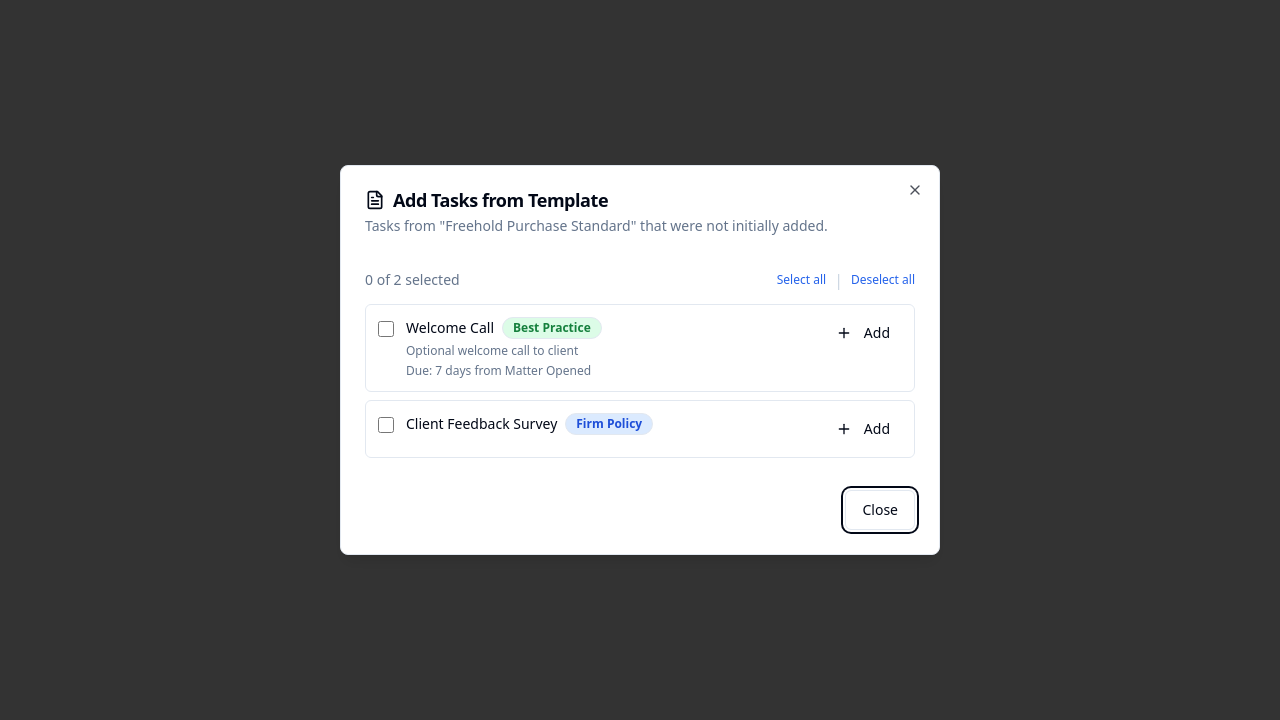
Test: SkippedTasksDialog › Selection behavior › deselect all clears selection
The width and height of the screenshot is (1280, 720).
# Select all first
Click the button "Select all": coordinates (802, 280) [777,268,826,292]
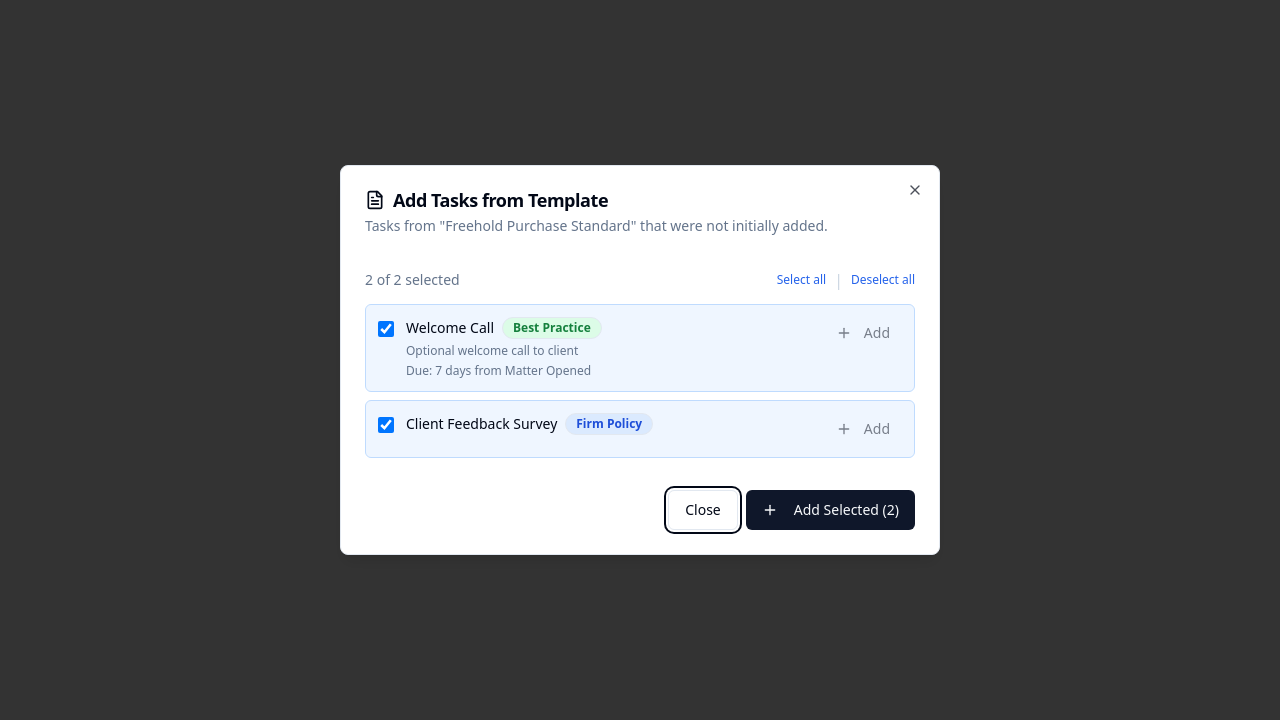
Now the text "2 of 2 selected" is shown, box [365,270,460,290]
# Then deselect all
Click the button "Deselect all": coordinates (883, 280) [851,268,915,292]
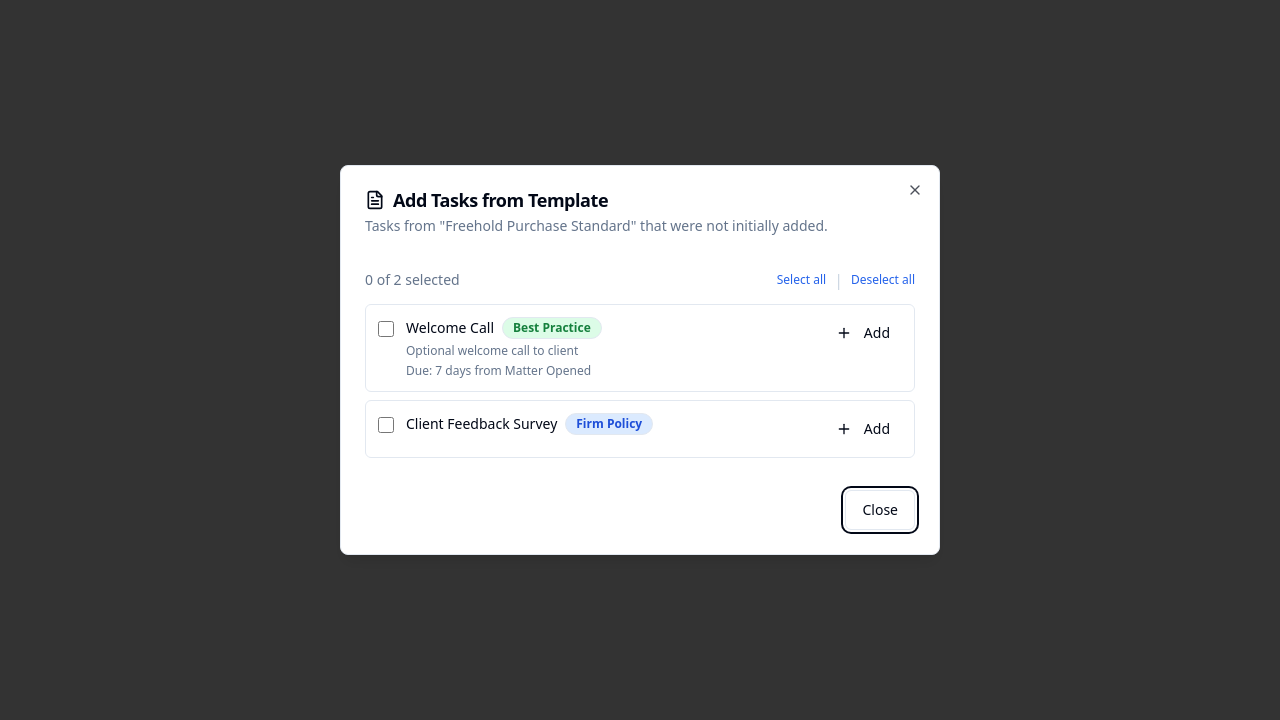
Now the text "0 of 2 selected" is shown, box [365,270,460,290]
